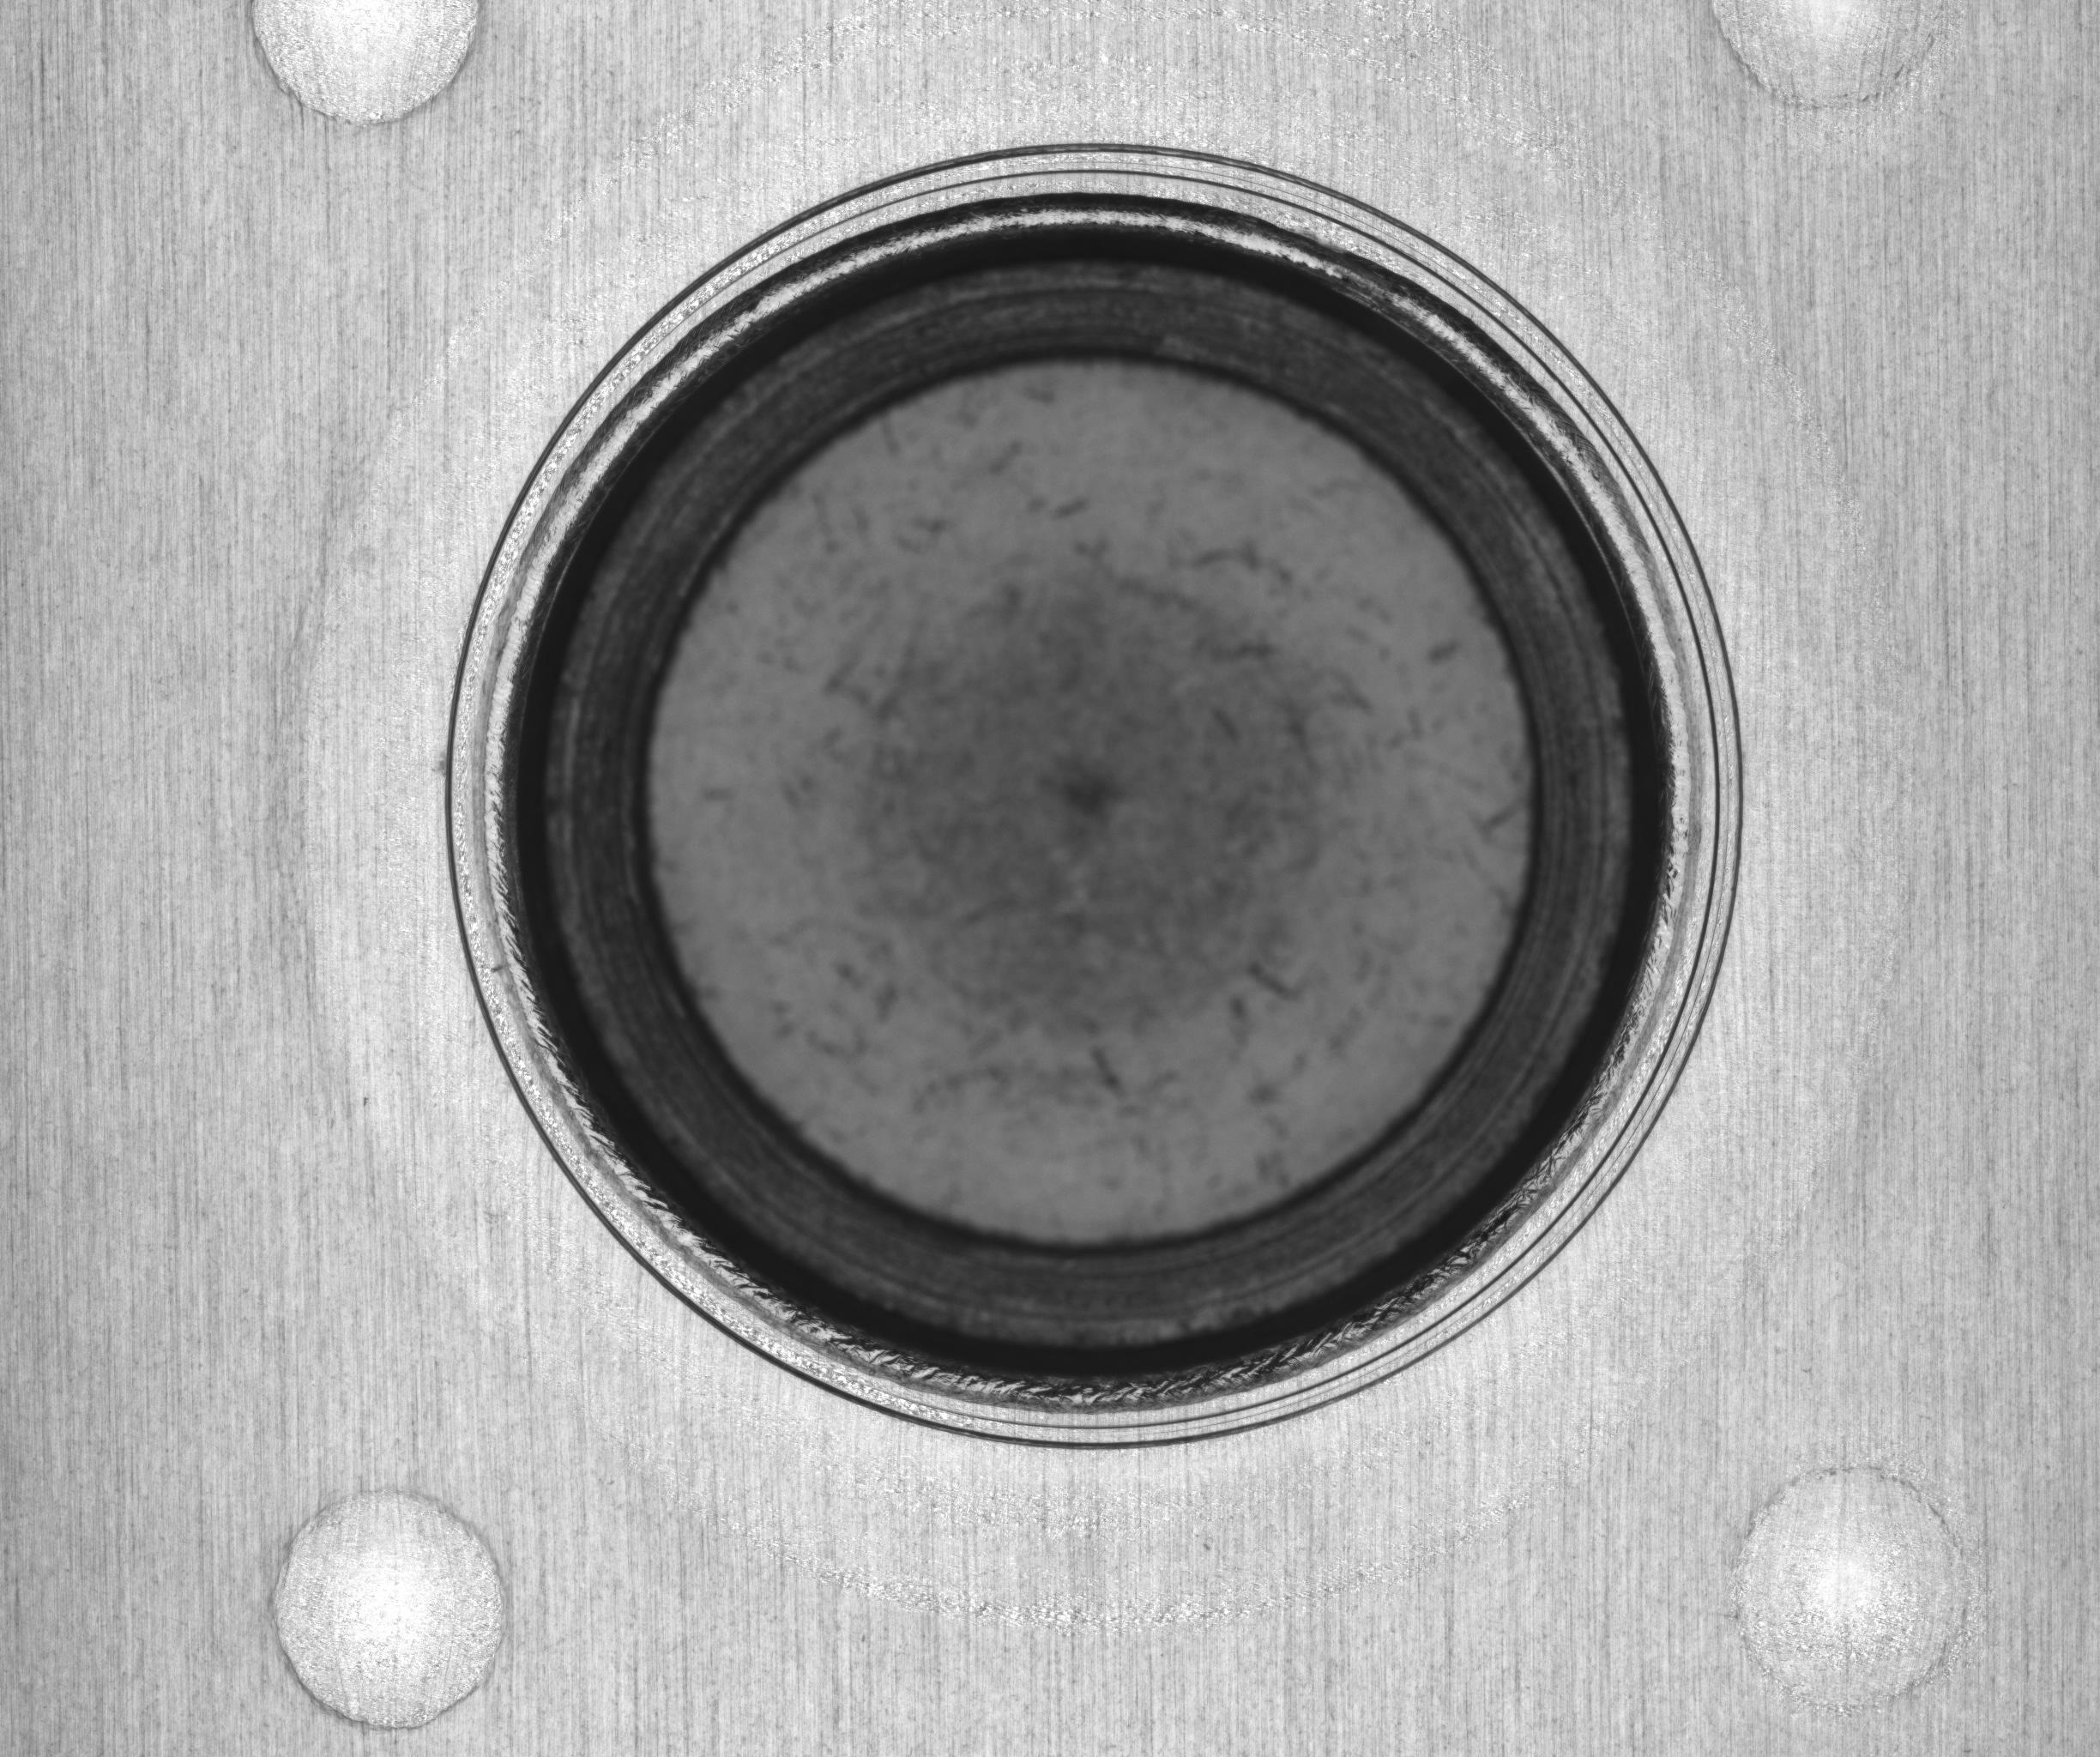coveriswrong: (506, 204, 1667, 1394)
